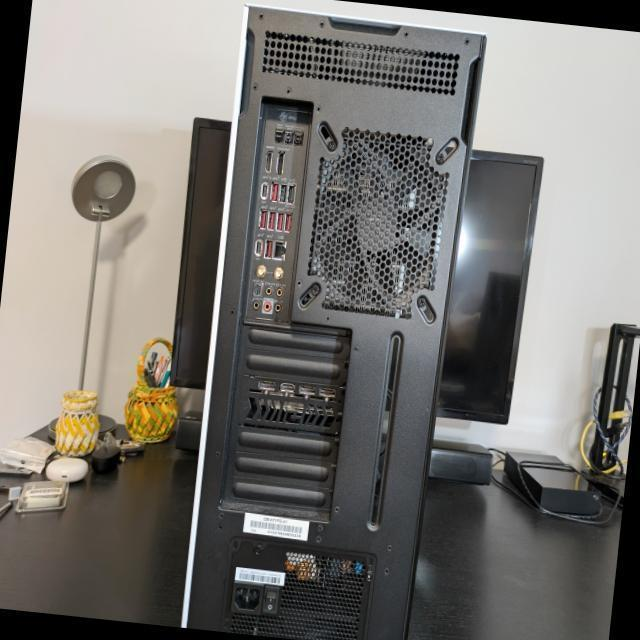PSU: (220, 537, 375, 640)
